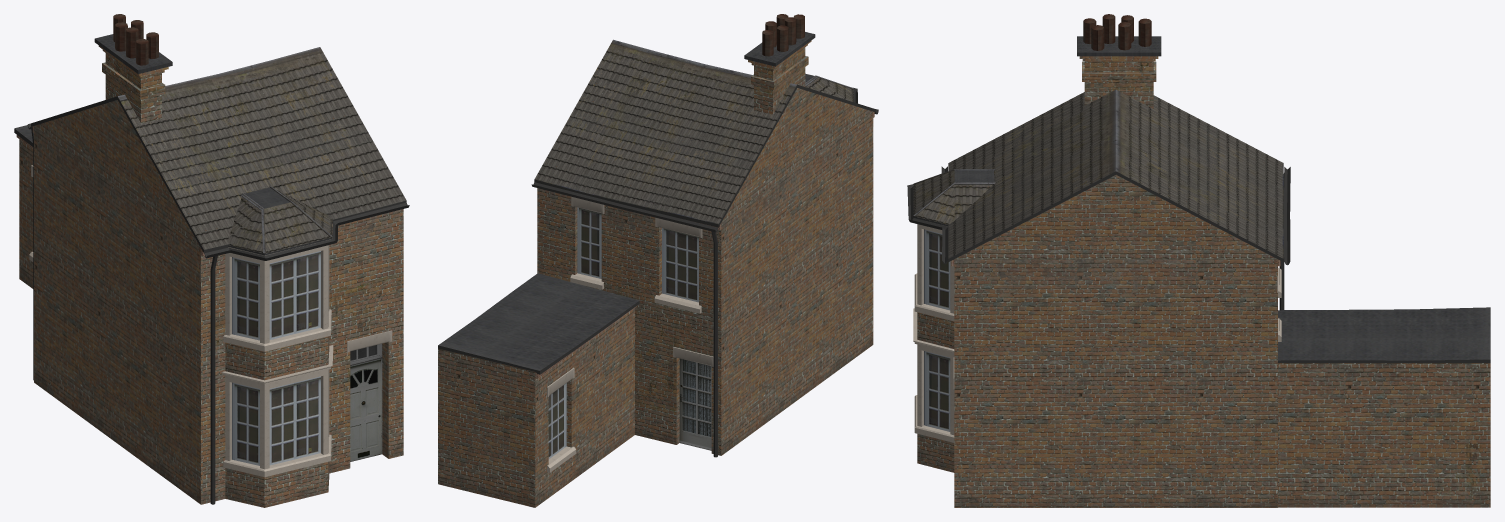
File: ukterracedvictorian10m.FBX
3 views of the same model, side by side, from view 1: azimuth 30°, elevation 25°; view 2: azimuth 150°, elevation 25°; view 3: azimuth 270°, elevation 25° (orthographic). The views are drawn at different scales.
Visible parts, largest first — view 1: Object003; view 2: Object003; view 3: Object003.
Boxes of the visible parts, bbox=[...] form: Object003: bbox=[14, 14, 409, 507]; Object003: bbox=[438, 14, 878, 507]; Object003: bbox=[907, 14, 1490, 507].
Size of the model in its own units: 560 by 1093 by 1441.
